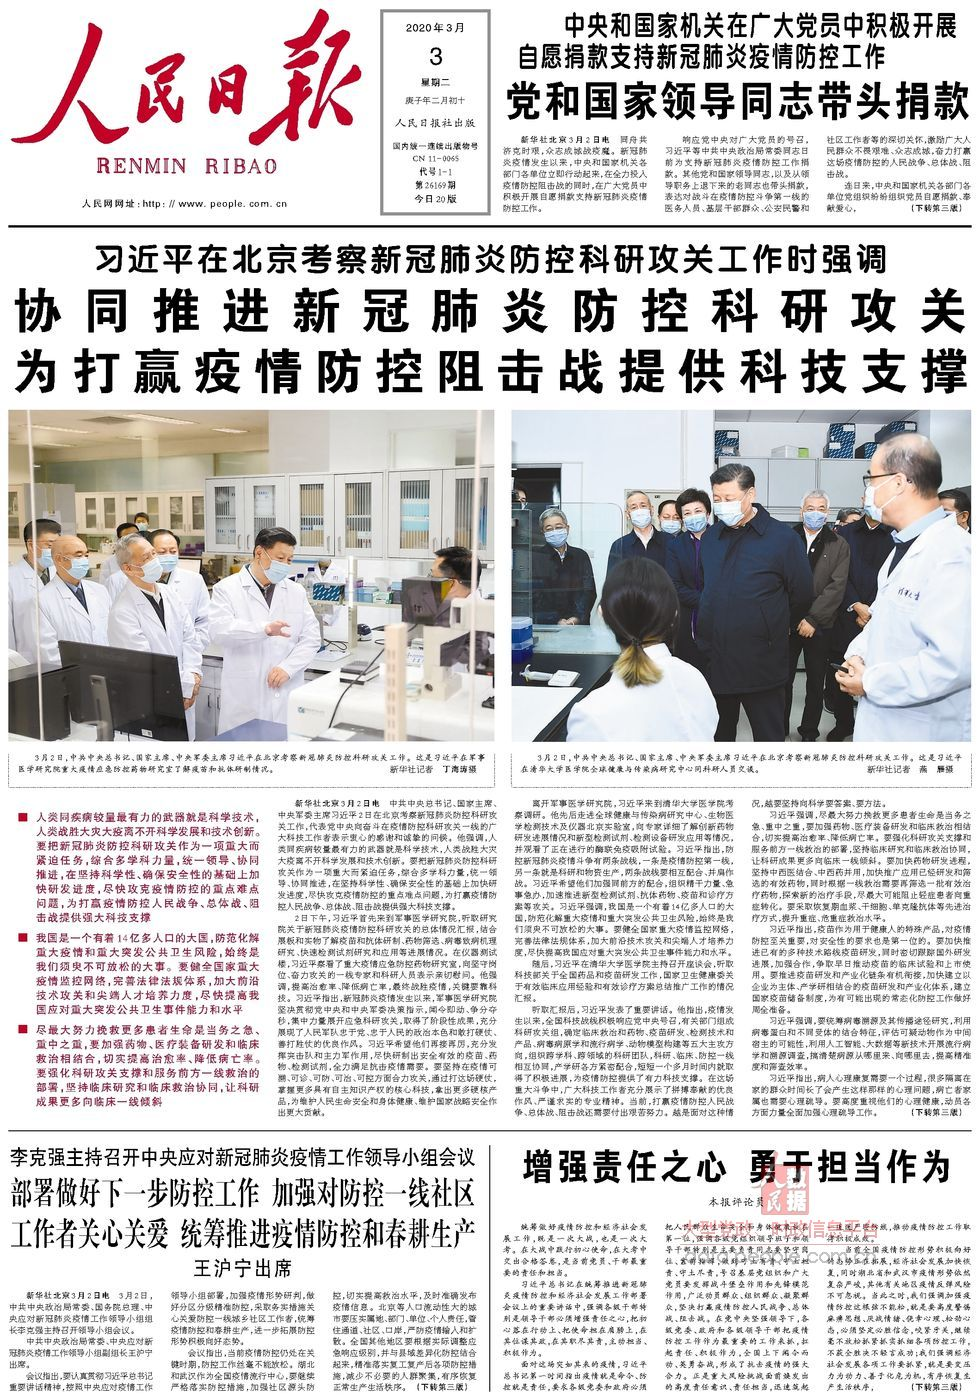pic: (3, 406, 500, 748), (506, 404, 977, 748)
